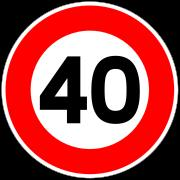Speed limit -40-: (32, 31, 147, 146)
